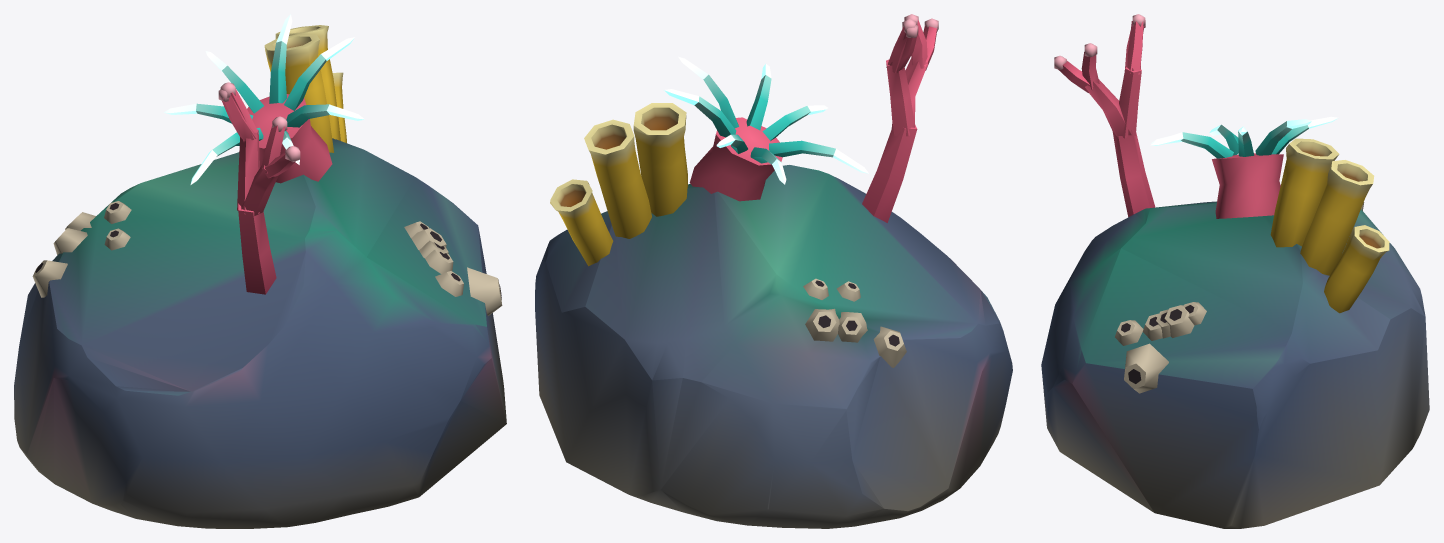
The model's file is sea_rock_a.glb.
The picture shows the model from 3 angles, left to right: view 1: azimuth 30°, elevation 25°; view 2: azimuth 150°, elevation 25°; view 3: azimuth 270°, elevation 25°; orthographic projection. The views are drawn at different scales.
Parts seen in each view (by area): view 1: sea_rock_a; view 2: sea_rock_a; view 3: sea_rock_a.
Part boxes in pixels (bbox=[...]): sea_rock_a: bbox=[14, 14, 506, 528]; sea_rock_a: bbox=[535, 14, 1012, 528]; sea_rock_a: bbox=[1041, 14, 1429, 528].
Bounding box in the file's own units: 1.35 × 1.19 × 1.12.
